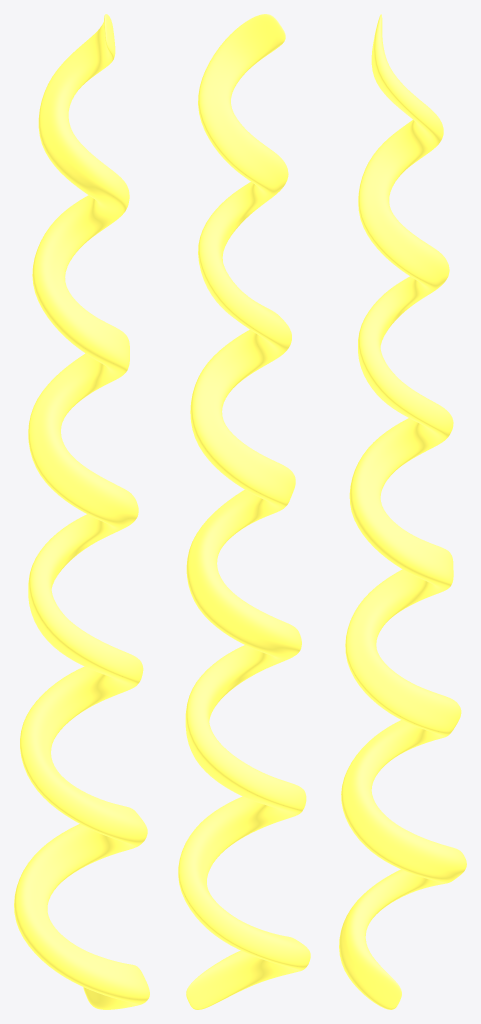
Rendered from Fusili.007.gltf.
3 renders of one model, left to right at view 1: azimuth 90°, elevation 25°; view 2: azimuth 150°, elevation 25°; view 3: azimuth 270°, elevation 25°, orthographic. The views are drawn at different scales.
Visible parts, largest first — view 1: Fusili.007; view 2: Fusili.007; view 3: Fusili.007.
Boxes of the visible parts, x1,y1,x2,y2 form: Fusili.007: [14, 14, 149, 1009]; Fusili.007: [178, 14, 310, 1009]; Fusili.007: [339, 14, 466, 1009].
Bounding box in the file's own units: 0.6109 × 5.09 × 0.6112.
